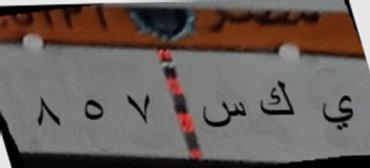5: (76, 94, 109, 126)
7: (123, 90, 157, 128)
8: (34, 92, 65, 136)
kaaf: (254, 75, 296, 124)
seen: (200, 92, 248, 136)
yaa: (319, 83, 360, 138)
